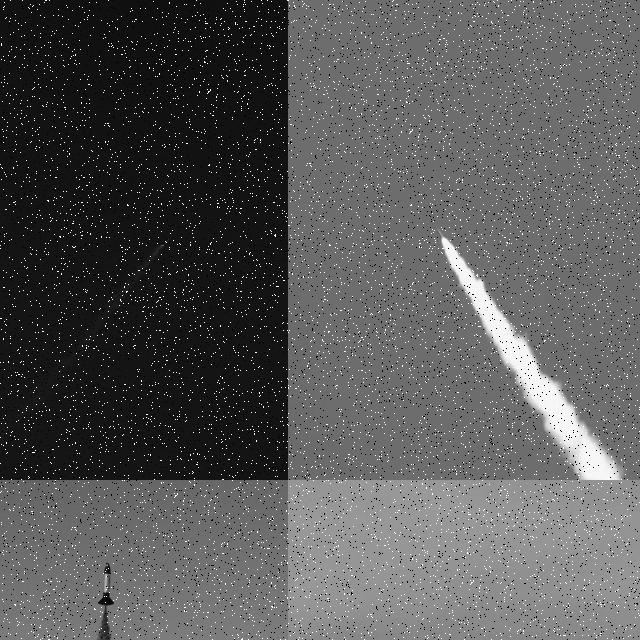Rocket: (97, 562, 114, 606), (158, 236, 170, 247), (437, 228, 444, 239)
